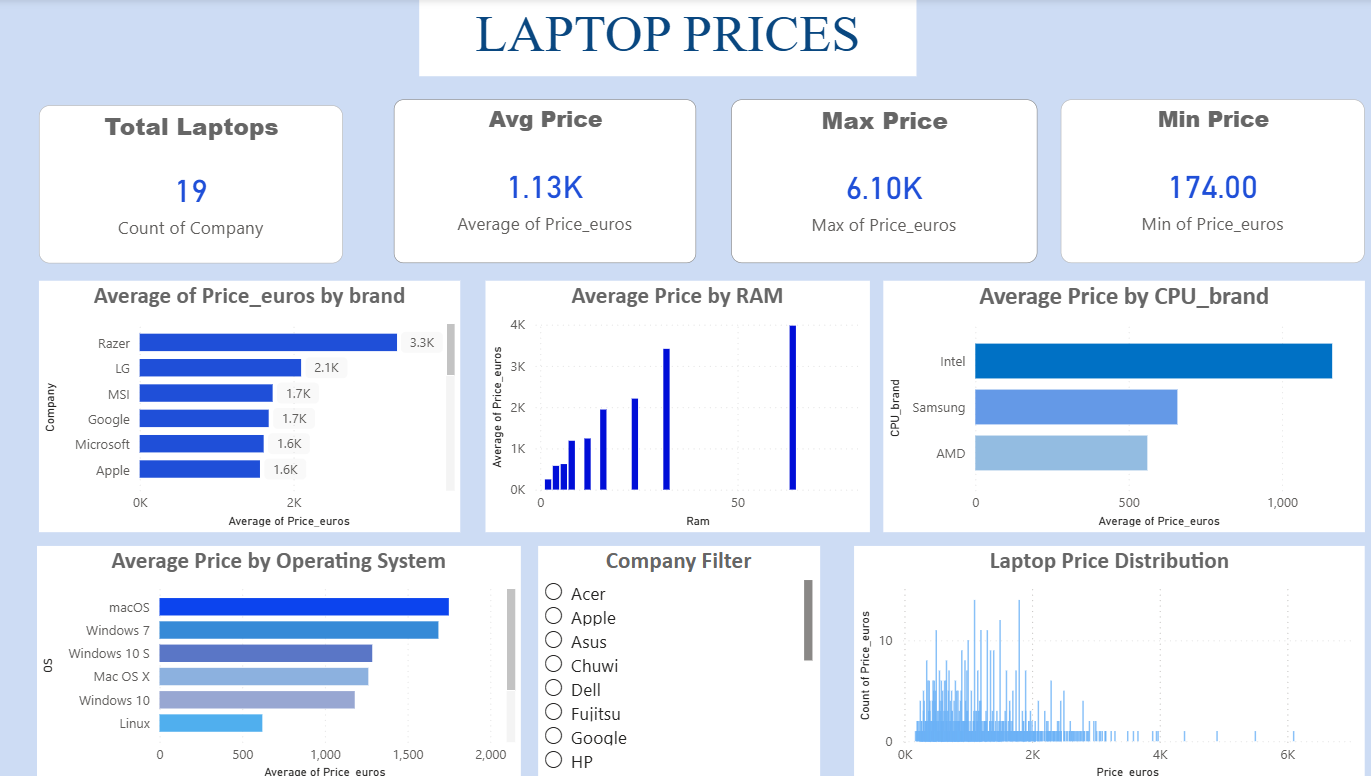

The dashboard page shown, as its layout file describes it:
{"tool":"powerbi","page":{"name":"Page 1","canvas":[1280,720],"ordinal":0},"visuals":[{"type":"card","title":"Total Laptops","fields":{"Values":["Count(laptop_prices.Company)"]},"box":[37.6,98.4,279.2,145],"z":0},{"type":"card","title":"Avg Price","fields":{"Values":["Avg(laptop_prices.Price_euros)"]},"box":[363.3,93.1,277.4,150.3],"z":1000},{"type":"card","title":"Max Price","fields":{"Values":["Max(laptop_prices.Price_euros)"]},"box":[673,93.1,281,150.3],"z":2000},{"type":"card","title":"Min Price","fields":{"Values":["Min(laptop_prices.Price_euros)"]},"box":[975.4,93.1,279.2,150.3],"z":3000},{"type":"barChart","title":"Average of Price_euros by brand","fields":{"Category":["laptop_prices.Company"],"Y":["Avg(laptop_prices.Price_euros)"]},"box":[37.6,259.5,386.6,230.9],"z":4000},{"type":"clusteredColumnChart","title":"Average Price by RAM","fields":{"Category":["laptop_prices.Ram"],"Y":["Avg(laptop_prices.Price_euros)"]},"box":[447.4,259.5,352.6,230.9],"z":5000},{"type":"barChart","title":"Average Price by CPU_brand","fields":{"Category":["laptop_prices.CPU_brand"],"Y":["Avg(laptop_prices.Price_euros)"]},"box":[812.6,259.5,442.1,230.9],"z":6000},{"type":"barChart","title":"Average Price by Operating System","fields":{"Category":["laptop_prices.OS"],"Y":["Avg(laptop_prices.Price_euros)"]},"box":[35.8,502.9,443.9,218.4],"z":7000},{"type":"columnChart","title":"Laptop Price Distribution","fields":{"Category":["laptop_prices.Price_euros"],"Y":["CountNonNull(laptop_prices.Price_euros)"]},"box":[785.7,502.9,468.9,218.4],"z":8000},{"type":"listSlicer","title":"Company Filter","fields":{"Values":["laptop_prices.Company"]},"box":[495.8,502.9,257.7,218.4],"z":9000},{"type":"textbox","box":[386.6,0,456.4,71.6],"z":9001}]}

Visuals, with their boxes in screenshot pixels (x1, y1, x2, y2), scaled from the page's 1280x720 canvas onto the 1371x776 screenshot:
"Total Laptops" card: (40, 106, 339, 262)
"Avg Price" card: (389, 100, 686, 262)
"Max Price" card: (721, 100, 1022, 262)
"Min Price" card: (1045, 100, 1344, 262)
"Average of Price_euros by brand" barChart: (40, 280, 454, 529)
"Average Price by RAM" clusteredColumnChart: (479, 280, 857, 529)
"Average Price by CPU_brand" barChart: (870, 280, 1344, 529)
"Average Price by Operating System" barChart: (38, 542, 514, 775)
"Laptop Price Distribution" columnChart: (842, 542, 1344, 775)
"Company Filter" listSlicer: (531, 542, 807, 775)
textbox: (414, 0, 903, 77)
